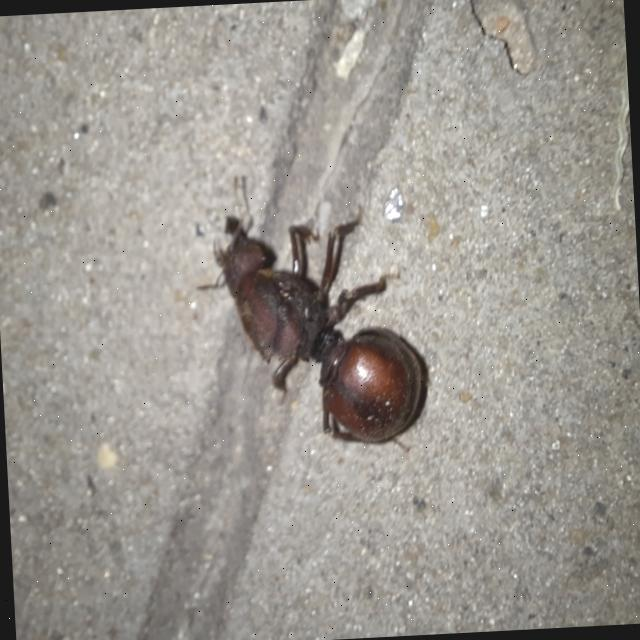Alive-Female-Dealate: (190, 167, 426, 453)
